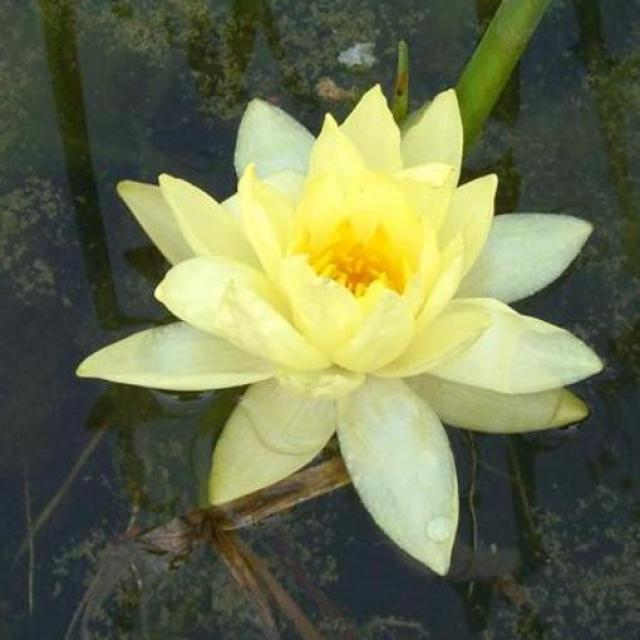rose: (80, 19, 629, 640)
